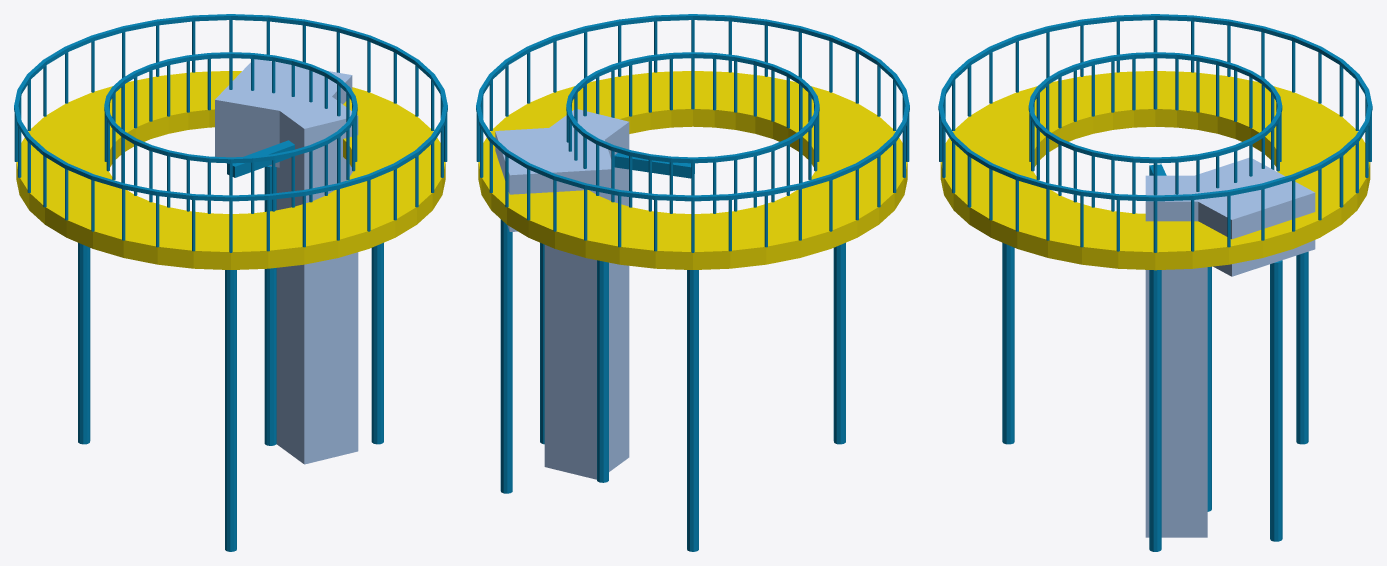
Rendered from folie_tag_027.glb.
The picture shows the model from 3 angles, left to right: view 1: azimuth 30°, elevation 25°; view 2: azimuth 150°, elevation 25°; view 3: azimuth 270°, elevation 25°; orthographic projection.
Visible parts, largest first — view 1: folie_tag_027_00_ring, folie_tag_027_line, folie_tag_027_core, folie_tag_027_01_block; view 2: folie_tag_027_00_ring, folie_tag_027_line, folie_tag_027_core, folie_tag_027_01_block; view 3: folie_tag_027_00_ring, folie_tag_027_line, folie_tag_027_core, folie_tag_027_01_block.
Boxes of the visible parts, bbox=[...] form: folie_tag_027_00_ring: bbox=[16, 71, 445, 269]; folie_tag_027_line: bbox=[14, 14, 447, 551]; folie_tag_027_core: bbox=[273, 94, 358, 464]; folie_tag_027_01_block: bbox=[215, 59, 352, 167]; folie_tag_027_00_ring: bbox=[478, 71, 907, 269]; folie_tag_027_line: bbox=[476, 14, 909, 551]; folie_tag_027_core: bbox=[544, 109, 629, 479]; folie_tag_027_01_block: bbox=[495, 125, 611, 231]; folie_tag_027_00_ring: bbox=[940, 71, 1370, 270]; folie_tag_027_line: bbox=[938, 14, 1372, 551]; folie_tag_027_core: bbox=[1145, 175, 1207, 537]; folie_tag_027_01_block: bbox=[1167, 158, 1315, 276].
Bounding box in the file's own units: 7.68 × 7.26 × 7.68.
